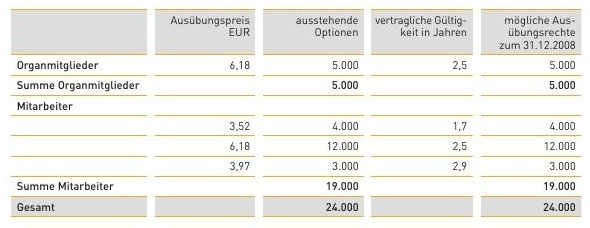table: (0, 0, 590, 228)
